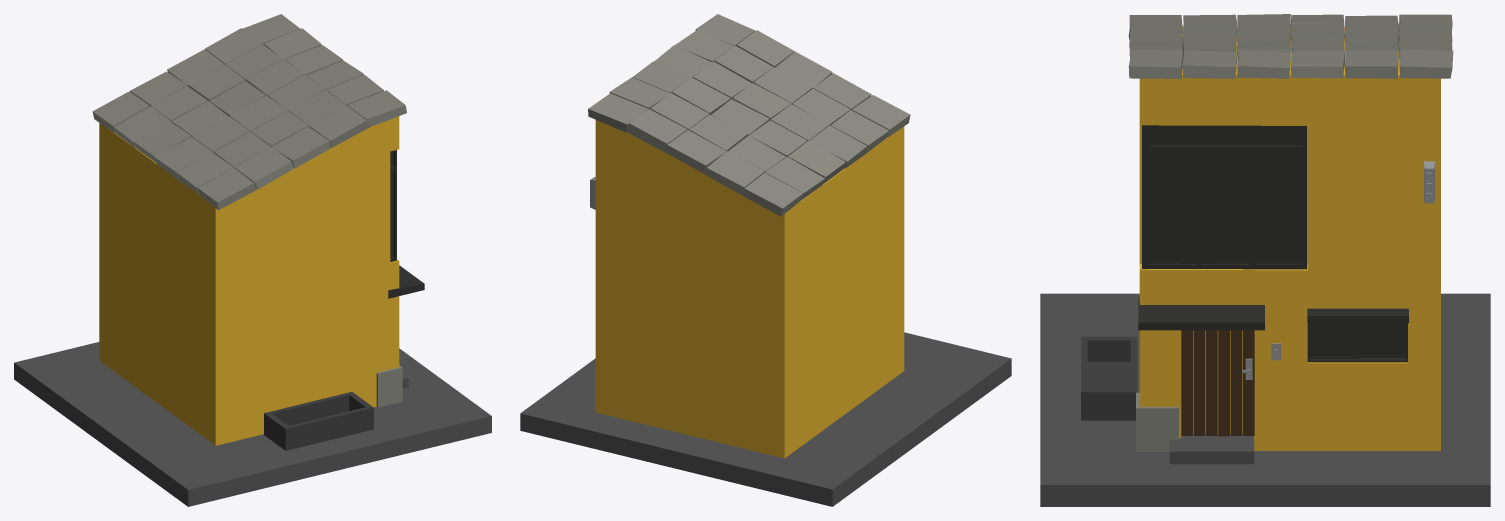
The model's file is Casa estrato 3.glb.
3 views of the same model, side by side, from view 1: azimuth 30°, elevation 25°; view 2: azimuth 150°, elevation 25°; view 3: azimuth 270°, elevation 25° (orthographic). The views are drawn at different scales.
Parts seen in each view (by area): view 1: Cube.137, Cube.046, Cube.041, Cube.044, Cube.149; view 2: Cube.137, Cube.046, Cube.041; view 3: Cube.137, Cube.041, Cube.149, Cube.046, Cube, Cube.044, Cube.019.
Boxes of the visible parts, x1,y1,x2,y2 form: Cube.137: (99,116,399,445); Cube.046: (92,14,406,407); Cube.041: (14,342,491,506); Cube.044: (264,392,373,450); Cube.149: (388,150,424,298); Cube.137: (595,120,904,458); Cube.046: (588,14,910,216); Cube.041: (520,332,1011,506); Cube.137: (1139,26,1440,450); Cube.041: (1040,293,1490,506); Cube.149: (1138,125,1408,362); Cube.046: (1128,14,1453,451); Cube: (1181,330,1254,436); Cube.044: (1081,336,1137,420); Cube.019: (1242,161,1434,379).
Bounding box in the file's own units: 5.42 × 5.39 × 5.38.
